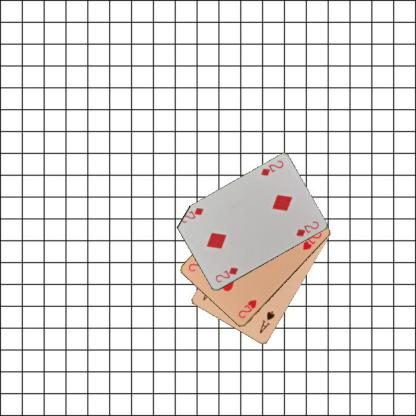2d: (258, 158, 285, 177), (213, 265, 239, 284)
2h: (236, 297, 259, 320)
As: (257, 309, 276, 335)
